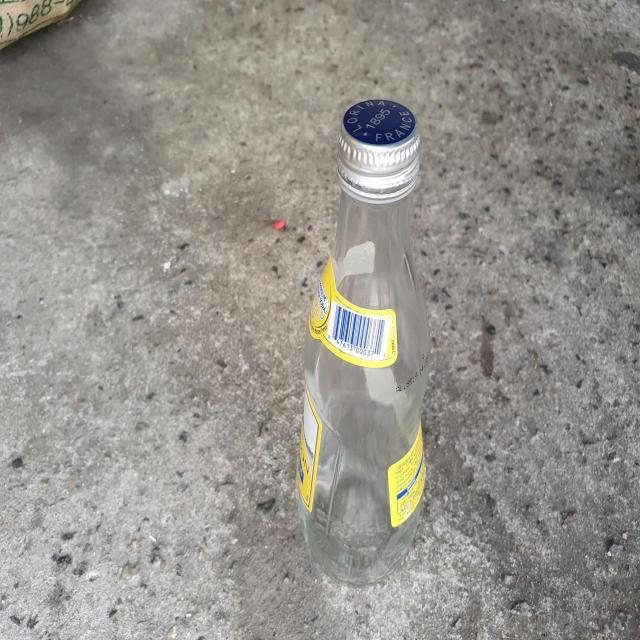glass: (298, 99, 431, 587)
